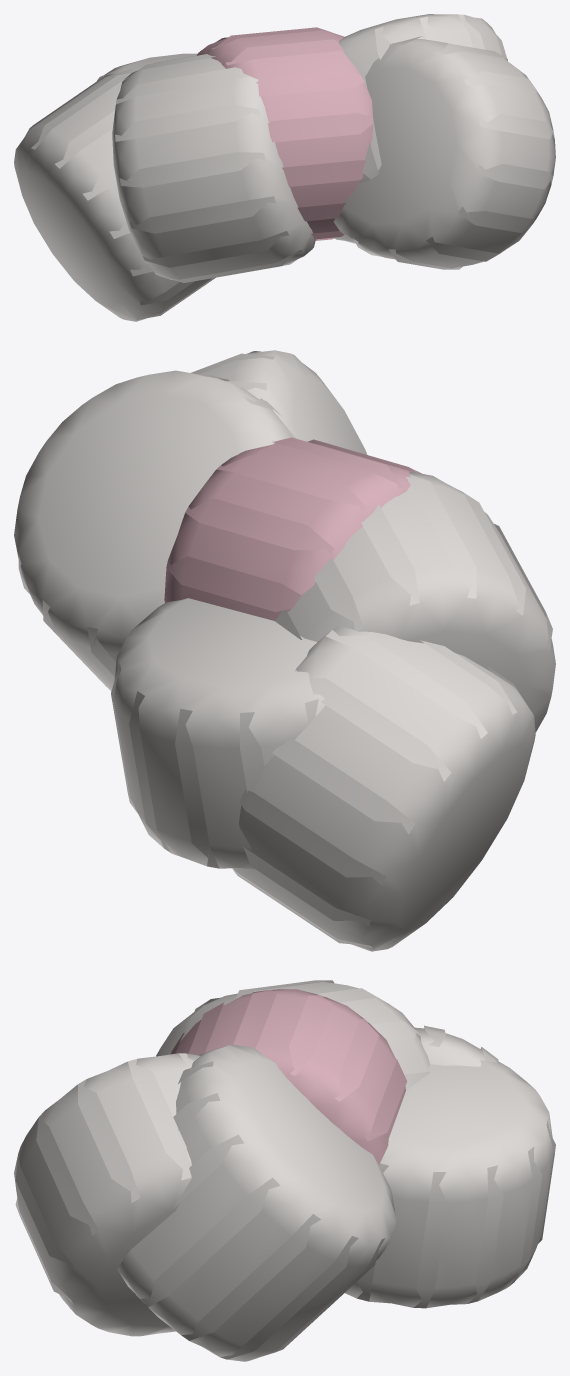
Rendered from topping-marshmallow.glb.
3 renders of one model, top to bottom at view 1: azimuth 30°, elevation 25°; view 2: azimuth 150°, elevation 25°; view 3: azimuth 270°, elevation 25°, orthographic. The views are drawn at different scales.
Visible parts, largest first — view 1: topping-marshmallow; view 2: topping-marshmallow; view 3: topping-marshmallow.
Boxes of the visible parts, left/top/right/bottom form: topping-marshmallow: left=14, top=14, right=555, bottom=321; topping-marshmallow: left=14, top=350, right=555, bottom=951; topping-marshmallow: left=14, top=980, right=555, bottom=1361.
Size of the model in its own units: 0.0145 by 0.0104 by 0.0143.
